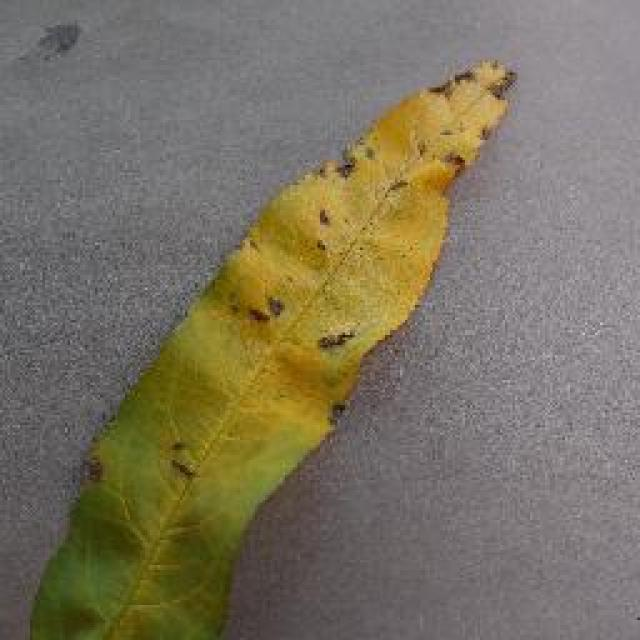Peach_Bacterial_Spot: (237, 98, 533, 405)
